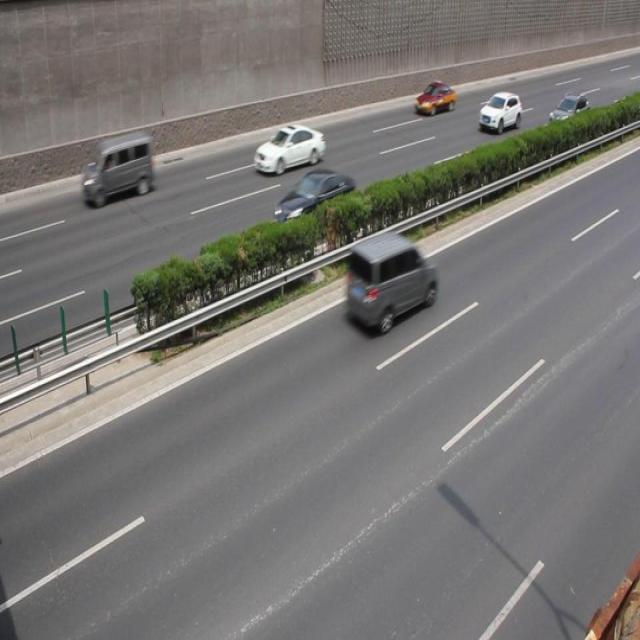car: (345, 231, 437, 332), (273, 168, 354, 241), (252, 124, 324, 176), (546, 91, 590, 135), (476, 90, 520, 133), (413, 78, 456, 118)
truck: (81, 132, 154, 210)
